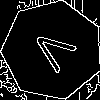V: (27, 25, 85, 80)
